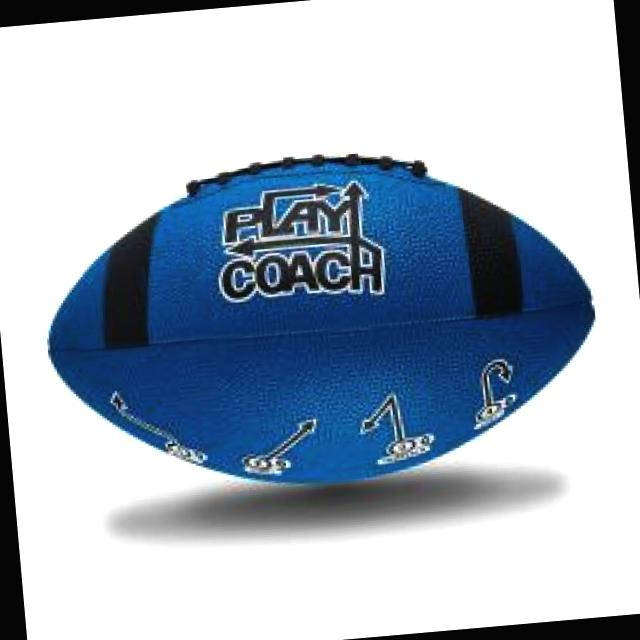ball: (15, 129, 618, 512)
